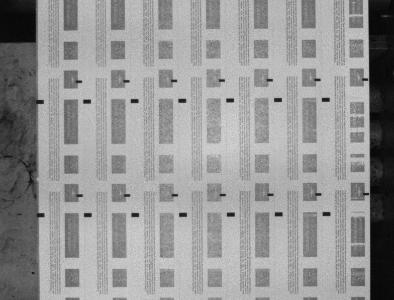backgroundclutter: (31, 271, 35, 274), (36, 178, 39, 181)
qblock: (179, 212, 187, 217), (131, 212, 139, 217), (227, 212, 235, 217), (179, 98, 187, 103), (36, 99, 44, 104), (83, 99, 91, 104), (322, 97, 330, 102), (37, 213, 45, 217), (84, 213, 92, 217), (275, 212, 283, 216), (323, 212, 331, 216), (131, 99, 139, 103), (274, 98, 282, 102), (227, 98, 234, 102)
smallqblock: (123, 80, 130, 83), (171, 79, 178, 82), (219, 79, 226, 82), (77, 194, 83, 197), (124, 194, 130, 197), (172, 194, 178, 197), (268, 193, 274, 196), (364, 192, 370, 195), (316, 193, 322, 196), (220, 193, 226, 196), (76, 80, 82, 83), (267, 78, 273, 81), (363, 78, 369, 81), (315, 78, 321, 81)
